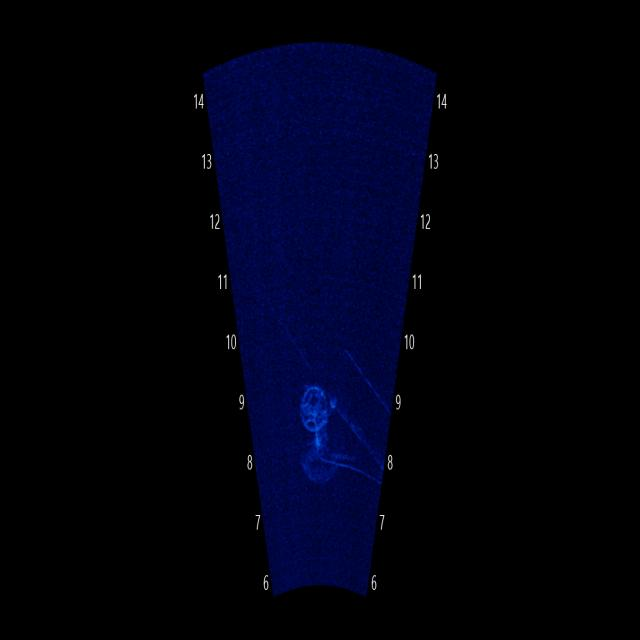circle: (287, 366, 344, 452)
